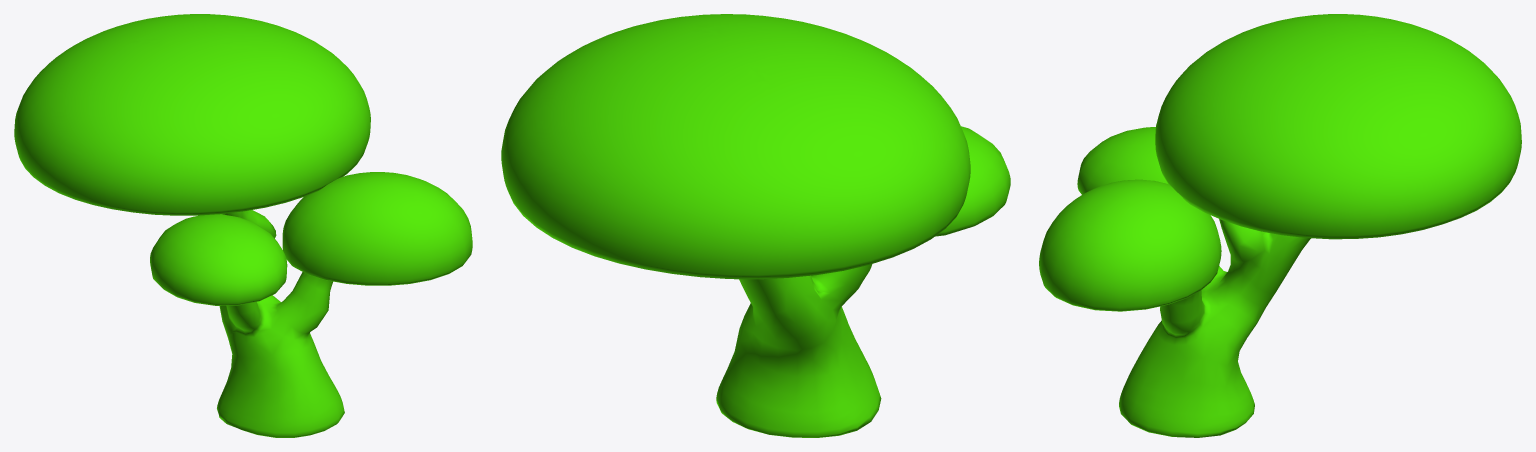
The model's file is TreeLowPoly (2).fbx.
The picture shows the model from 3 angles, left to right: view 1: azimuth 30°, elevation 25°; view 2: azimuth 150°, elevation 25°; view 3: azimuth 270°, elevation 25°; orthographic projection. The views are drawn at different scales.
Parts seen in each view (by area): view 1: Tree_LowPoly; view 2: Tree_LowPoly; view 3: Tree_LowPoly.
Boxes of the visible parts, x1,y1,x2,y2 form: Tree_LowPoly: (14,14,472,437); Tree_LowPoly: (501,14,1010,437); Tree_LowPoly: (1039,14,1521,437).
Size of the model in its own units: 808 by 773 by 957.
